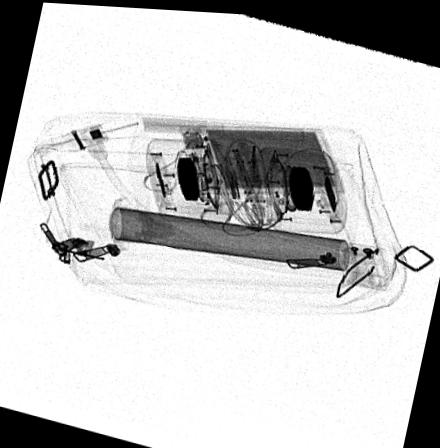Powerbank: (178, 124, 345, 195)
